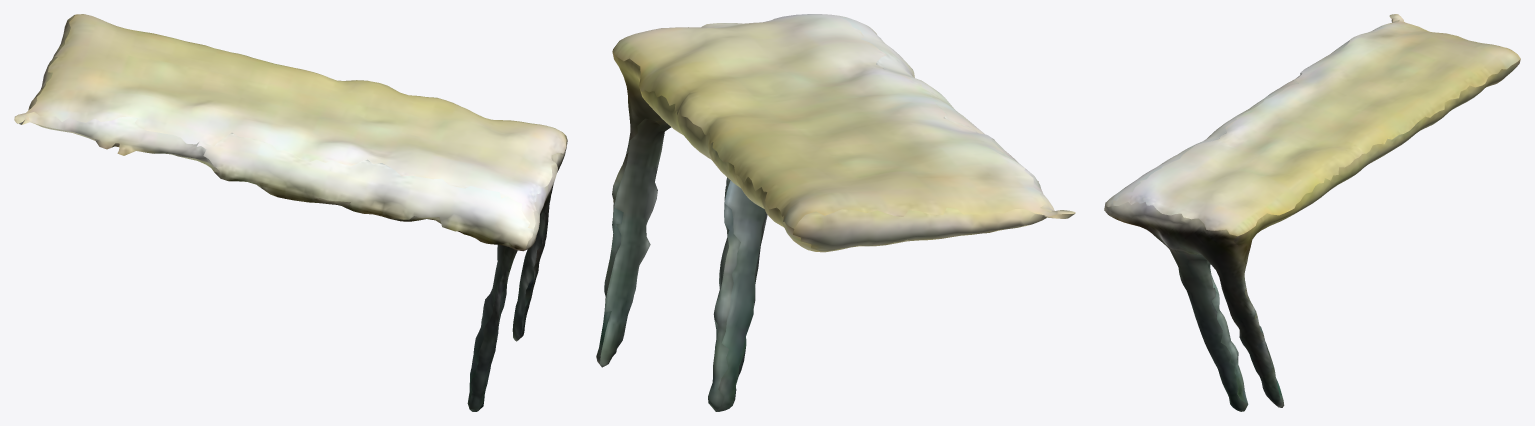
Rendered from 24_chair.glb.
3 views of the same model, side by side, from view 1: azimuth 30°, elevation 25°; view 2: azimuth 150°, elevation 25°; view 3: azimuth 270°, elevation 25° (orthographic). The views are drawn at different scales.
Parts seen in each view (by area): view 1: 24_chair; view 2: 24_chair; view 3: 24_chair.
Boxes of the visible parts, x1=… form: 24_chair: x1=14, y1=14, x2=567, y2=411; 24_chair: x1=596, y1=14, x2=1075, y2=411; 24_chair: x1=1104, y1=14, x2=1520, y2=411.
Bounding box in the file's own units: 1.56 × 1.11 × 1.54.
1 material, 1 textured.
